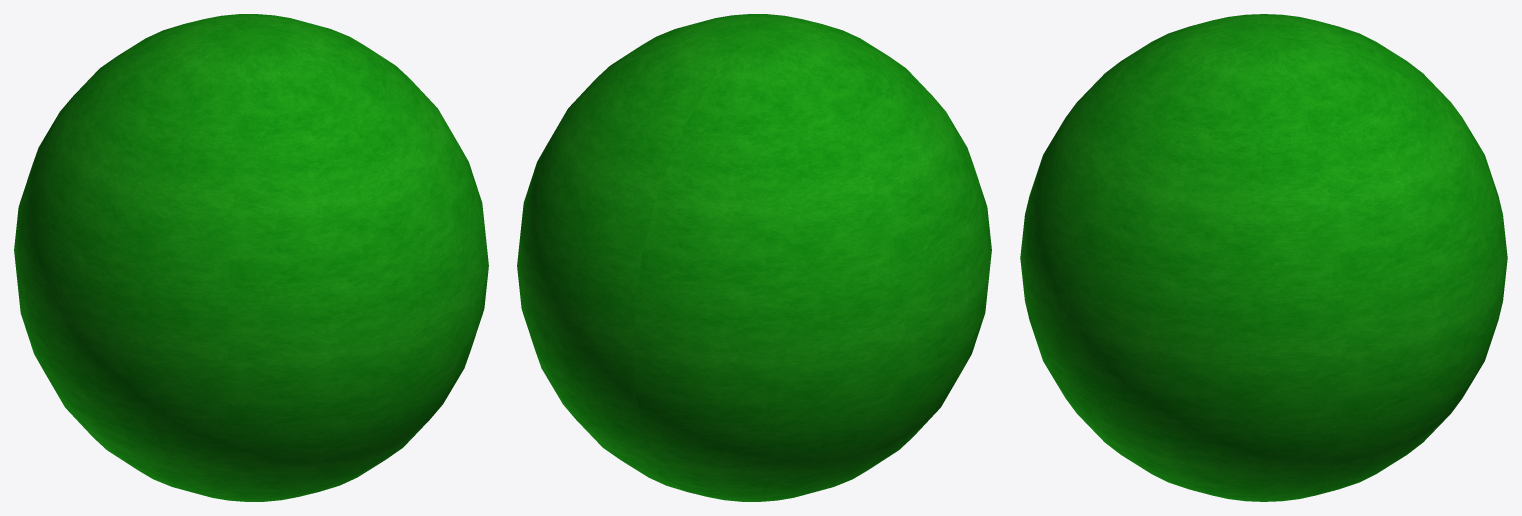
The model's file is titleground.FBX.
3 renders of one model, left to right at view 1: azimuth 30°, elevation 25°; view 2: azimuth 150°, elevation 25°; view 3: azimuth 270°, elevation 25°, orthographic.
Parts seen in each view (by area): view 1: Sphere001; view 2: Sphere001; view 3: Sphere001.
Boxes of the visible parts, x1,y1,x2,y2 form: Sphere001: [14, 14, 488, 501]; Sphere001: [517, 14, 991, 501]; Sphere001: [1020, 14, 1507, 501].
Size of the model in its own units: 5921 by 6095 by 6144.
Materials: 1 (1 with a texture image).
